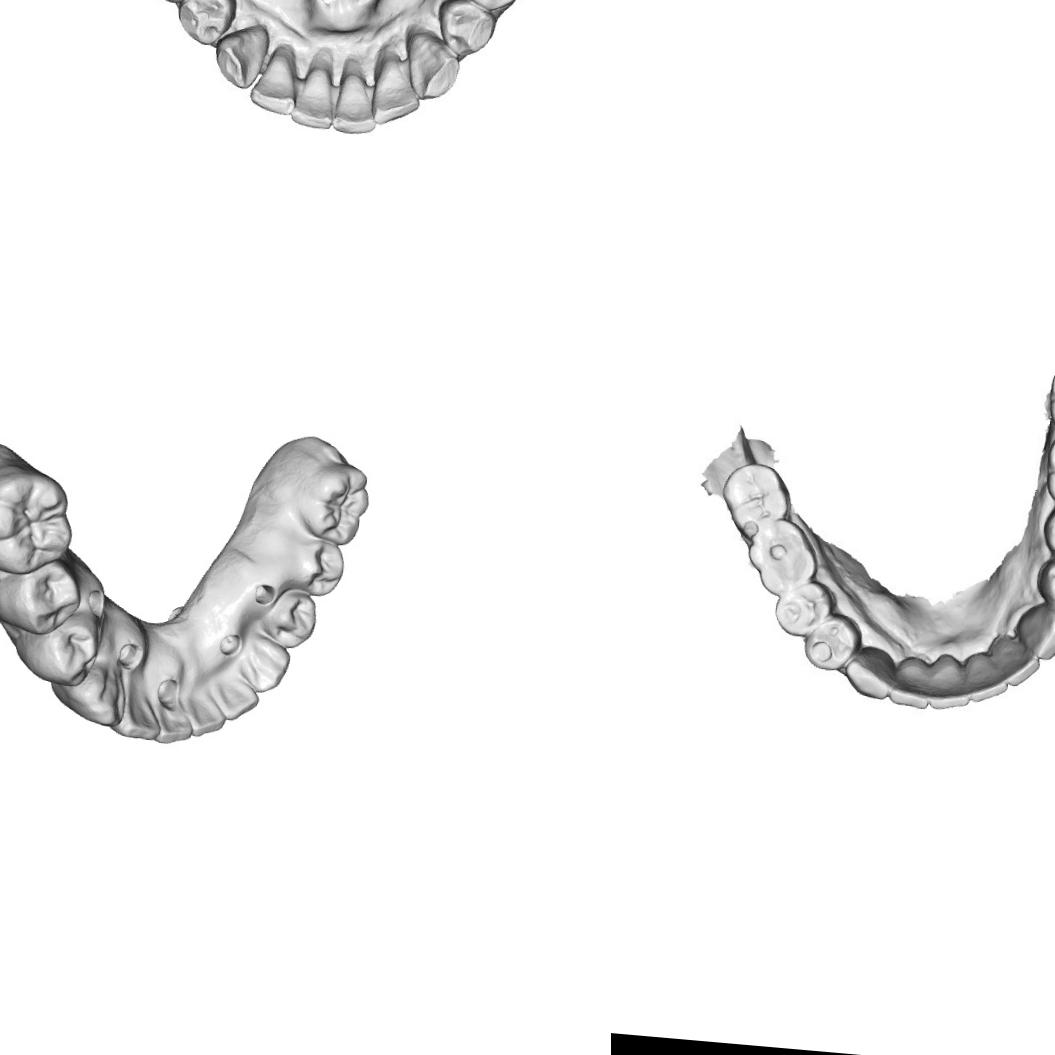canine: (403, 24, 460, 102), (211, 21, 268, 91), (66, 664, 125, 728), (236, 631, 291, 695), (844, 646, 894, 698), (1015, 601, 1055, 662)
incisor: (288, 50, 342, 134), (368, 47, 424, 127), (330, 54, 384, 136), (244, 40, 301, 114), (112, 678, 164, 745), (890, 652, 938, 709), (989, 636, 1040, 688), (928, 653, 974, 710), (964, 653, 1010, 705), (183, 690, 229, 740), (213, 672, 260, 720), (152, 694, 193, 747)
molar: (0, 456, 80, 581), (288, 456, 374, 545), (721, 460, 790, 538), (746, 520, 813, 598)
premolar: (29, 604, 105, 688), (2, 560, 80, 637), (282, 534, 348, 602), (258, 584, 320, 650), (432, 0, 501, 58), (802, 613, 858, 672), (774, 578, 833, 633), (175, 0, 241, 49), (457, 0, 531, 17), (1042, 555, 1055, 612)
